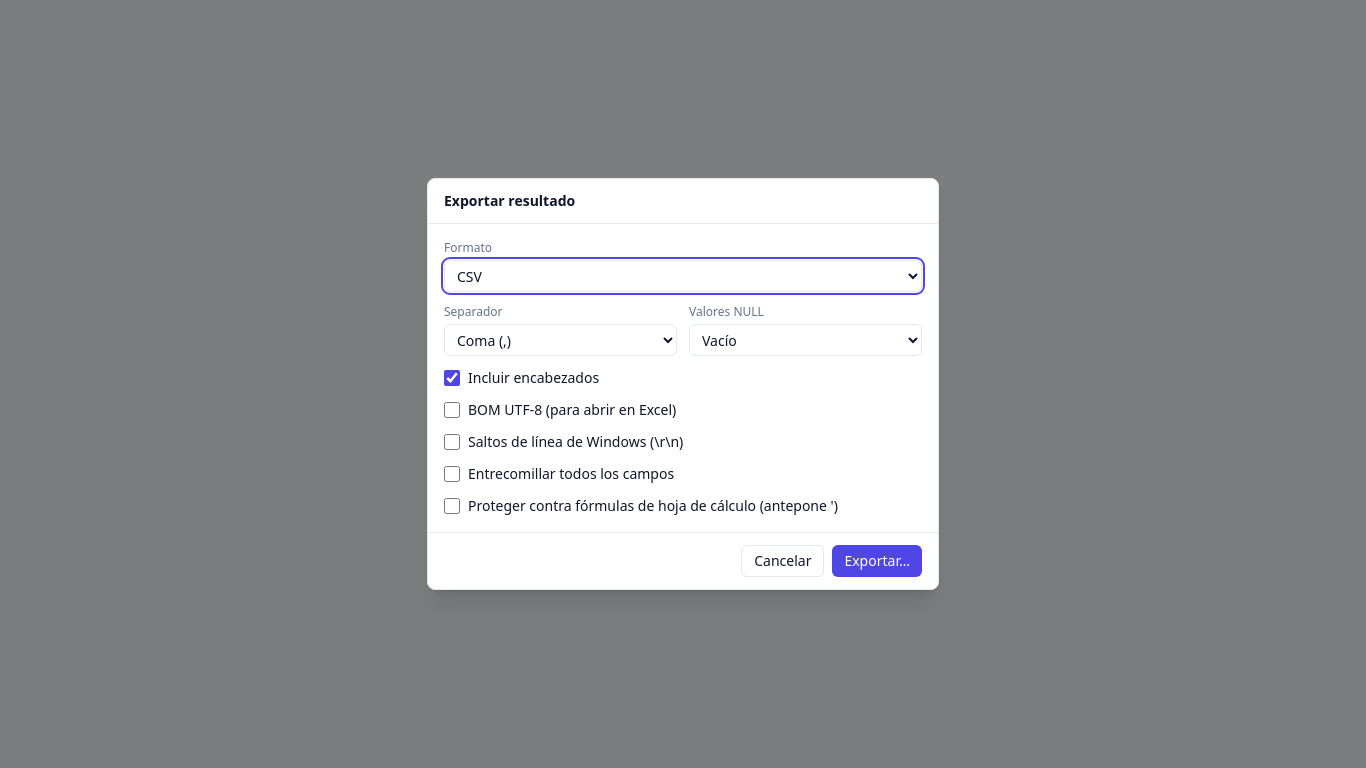
Test case: ExportDialog › exporta lo cargado con las opciones elegidas cuando el resultado está completo
The image size is (1366, 768).
Click the checkbox labelled "BOM UTF-8 (para abrir en Excel)".
click(452, 410)  # box [444,402,460,418]
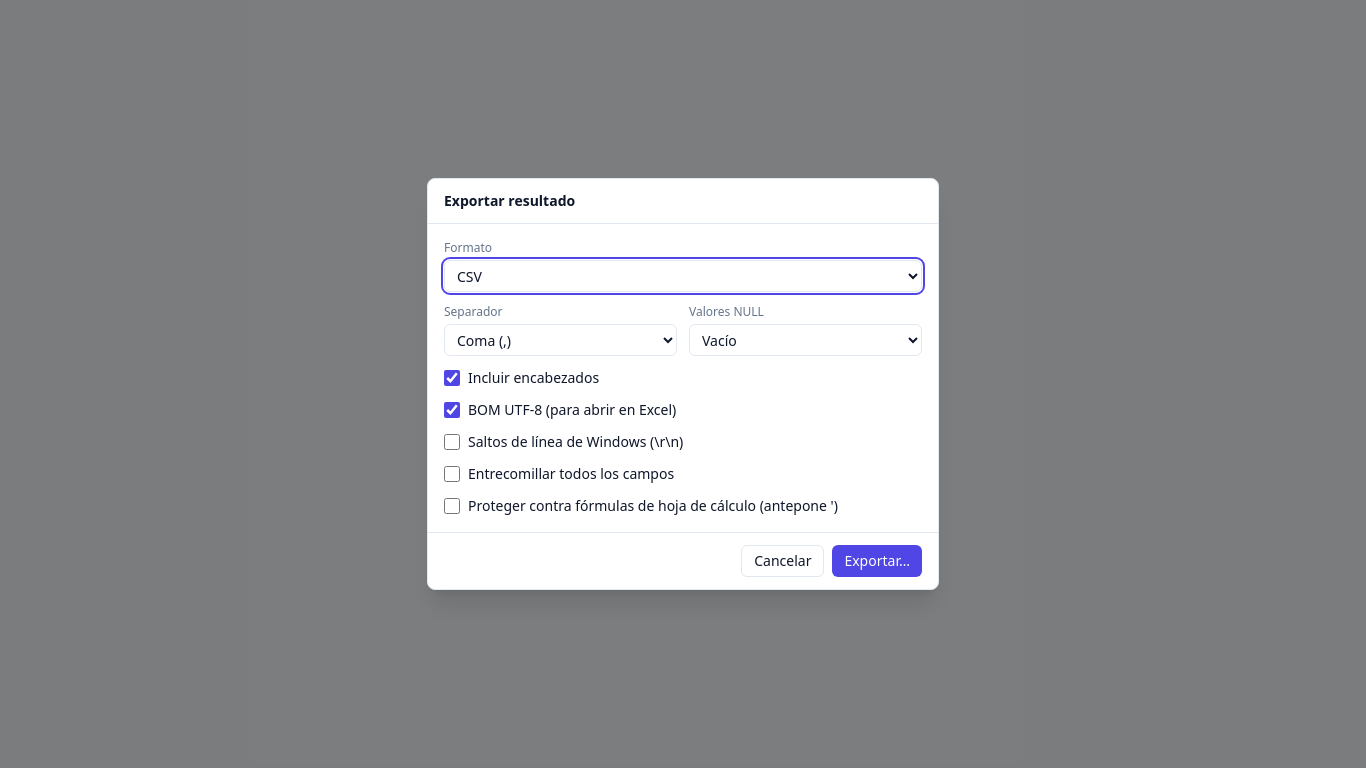
Click the button "Exportar…".
click(877, 561)  # box [832,545,922,577]
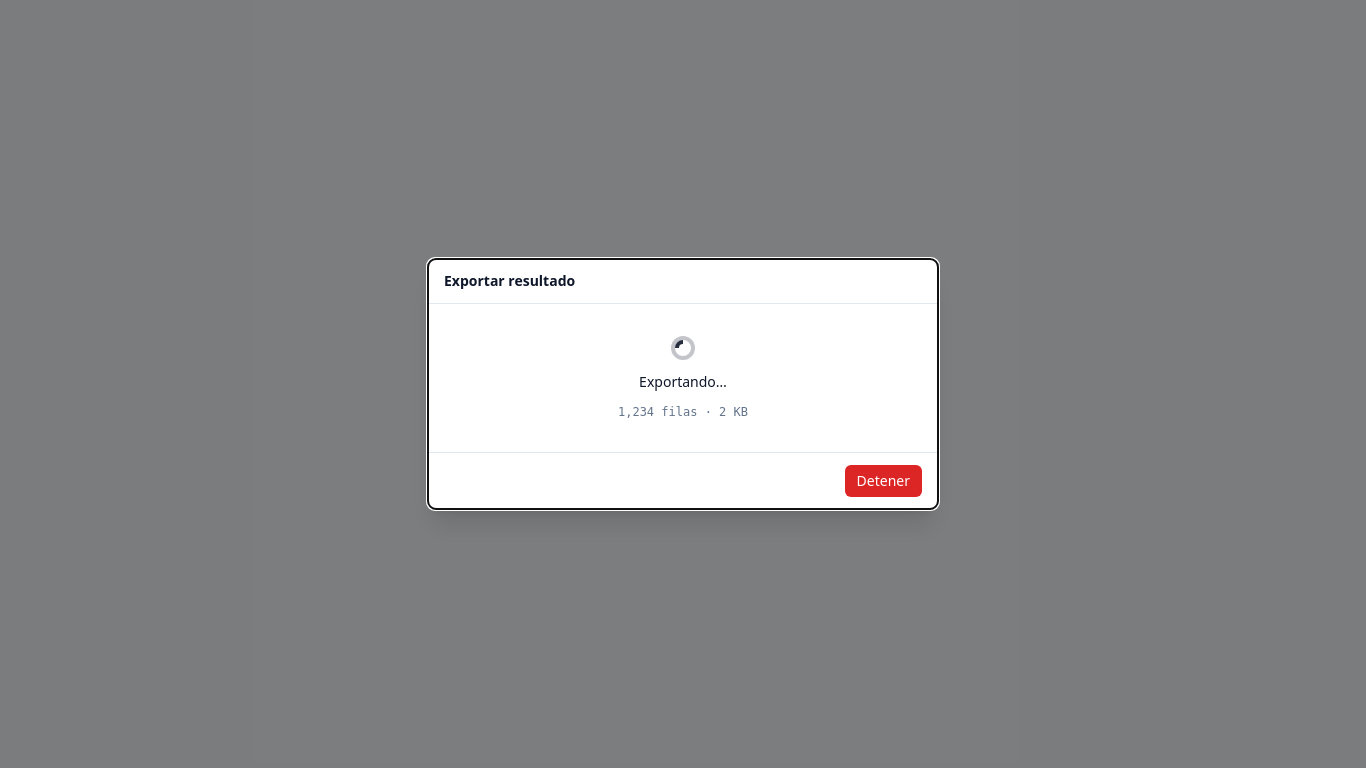
Expected: the button "Detener" is shown, [845,465,922,497]
Now the message "Exportando… 1,234 filas · 2 KB" is shown, box [618,336,748,419]
Now the text "1,234 filas · 2 KB" is shown, box [618,404,748,420]
